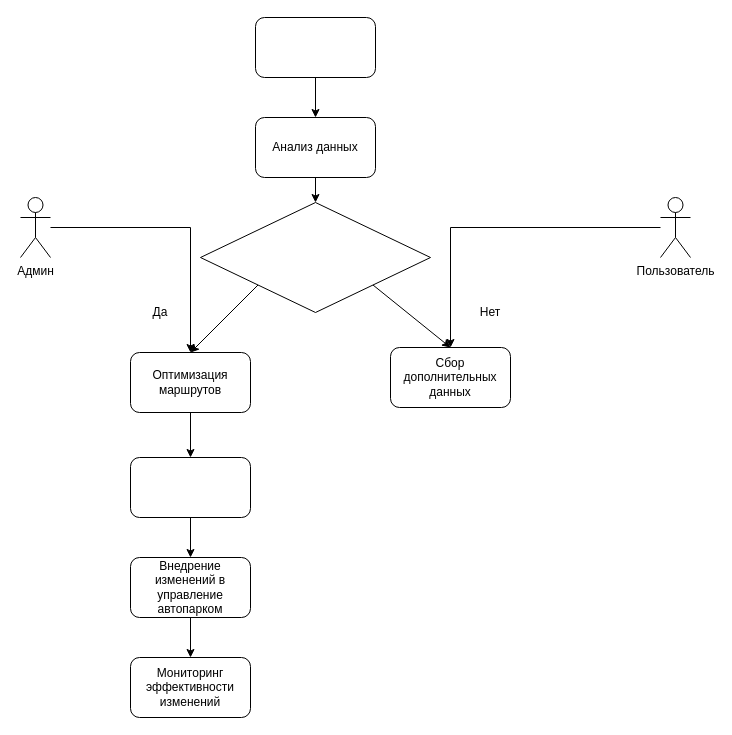
The diagram is 732 pixels wide and 735 high, and some of its shapes have lost their labels. Each missing label, with the centre of its shape:
Определение неэффективных маршрутов: (x=315, y=257)
Разработка предположений по улучшения: (x=190, y=487)
Сбор данных о транспортных средствах: (x=315, y=47)
